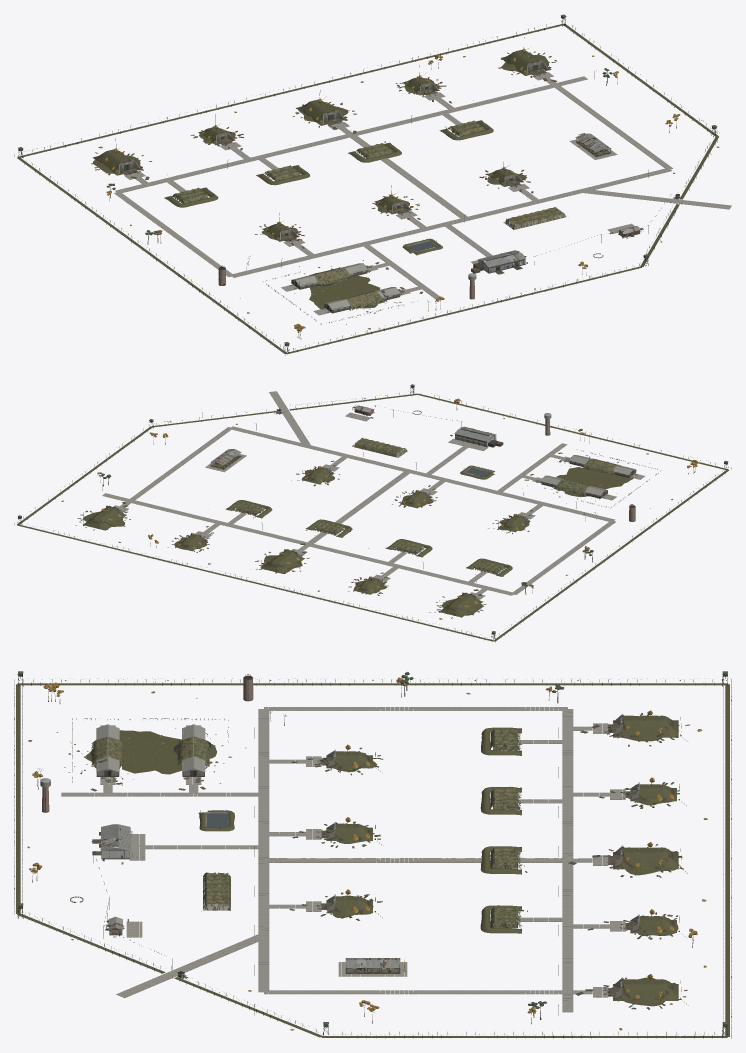
Rendered from site_ammo_a.glb.
The picture shows the model from 3 angles, top to bottom: view 1: azimuth 30°, elevation 25°; view 2: azimuth 150°, elevation 25°; view 3: azimuth 270°, elevation 25°; orthographic projection. The views are drawn at different scales.
Visible parts, largest first — view 1: deco|tile_conc, deco|A_A, b_barn1|A_A, b_barn2|A_A, deco_trees|A_A, b_shop|A_A, b_mag3|A_A, b_mag1|A_A, b_mag5|A_A; view 2: deco|tile_conc, deco|A_A, b_barn1|A_A, b_barn2|A_A, b_shop|A_A, deco_trees|A_A, b_mag5|A_A, b_mag3|A_A, b_mag1|A_A, b_mag5_ruin|A_B, b_mag1_ruin|A_B, b_mag3_ruin|A_B; view 3: deco|tile_conc, deco|A_A, b_barn1|A_A, b_barn2|A_A, b_mag1|A_A, b_mag3|A_A, b_mag5|A_A, deco_trees|A_A, b_shop|A_A, b_mag5_ruin|A_B, b_shed|A_A, b_mag3_ruin|A_B (+11 smaller).
Part boxes in pixels (x1,y1,x2,y2): deco|tile_conc: [114, 72, 731, 315]; deco|A_A: [14, 14, 718, 355]; b_barn1|A_A: [289, 263, 369, 289]; b_barn2|A_A: [322, 287, 401, 313]; deco_trees|A_A: [98, 55, 719, 339]; b_shop|A_A: [473, 250, 527, 274]; b_mag3|A_A: [298, 90, 347, 125]; b_mag1|A_A: [93, 138, 142, 175]; b_mag5|A_A: [501, 37, 550, 75]; deco|tile_conc: [102, 391, 645, 599]; deco|A_A: [14, 384, 731, 642]; b_barn1|A_A: [540, 475, 609, 498]; b_barn2|A_A: [568, 455, 637, 477]; b_shop|A_A: [454, 426, 497, 447]; deco_trees|A_A: [61, 398, 699, 619]; b_mag5|A_A: [83, 505, 125, 530]; b_mag3|A_A: [261, 549, 303, 573]; b_mag1|A_A: [439, 592, 481, 616]; b_mag5_ruin|A_B: [75, 502, 130, 530]; b_mag1_ruin|A_B: [429, 589, 486, 618]; b_mag3_ruin|A_B: [250, 543, 309, 573]; deco|tile_conc: [61, 707, 625, 1012]; deco|A_A: [14, 671, 731, 1038]; b_barn1|A_A: [177, 724, 209, 778]; b_barn2|A_A: [91, 724, 123, 779]; b_mag1|A_A: [608, 710, 681, 737]; b_mag3|A_A: [608, 842, 681, 869]; b_mag5|A_A: [608, 974, 681, 1000]; deco_trees|A_A: [27, 672, 707, 1030]; b_shop|A_A: [91, 824, 132, 861]; b_mag5_ruin|A_B: [575, 977, 688, 1009]; b_shed|A_A: [345, 958, 404, 973]; b_mag3_ruin|A_B: [568, 844, 687, 877].
Bounding box in the file's own units: 541 × 23.92 × 461.
Materials: 47 (40 with a texture image).
